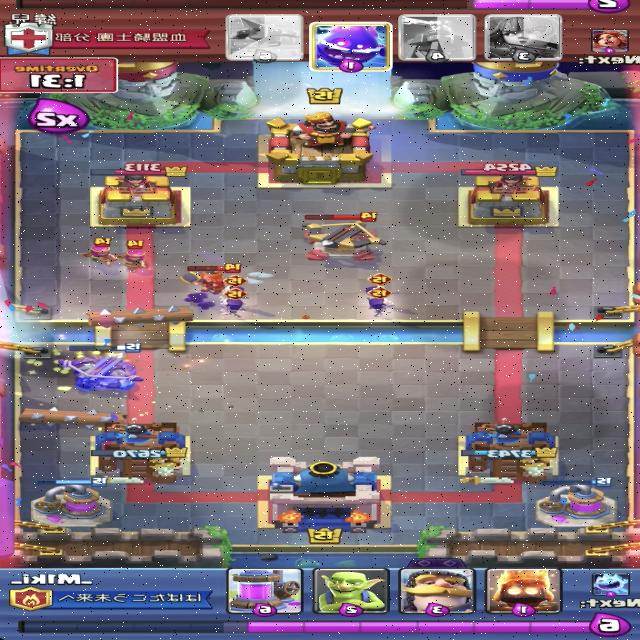Enemy-Archer: (78, 238, 125, 270), (115, 239, 155, 272)
Enemy-Log: (14, 406, 133, 428)
Enemy-Skeleton-Evo: (362, 285, 396, 318), (364, 274, 395, 302), (222, 287, 250, 318), (221, 274, 250, 302)
Enemy-Valkyrie: (178, 262, 243, 298)
Enemy-XBow: (298, 212, 388, 262)
Player-ElixirPump: (27, 476, 113, 530), (531, 478, 619, 528)
Player-XBow: (51, 342, 144, 391)
